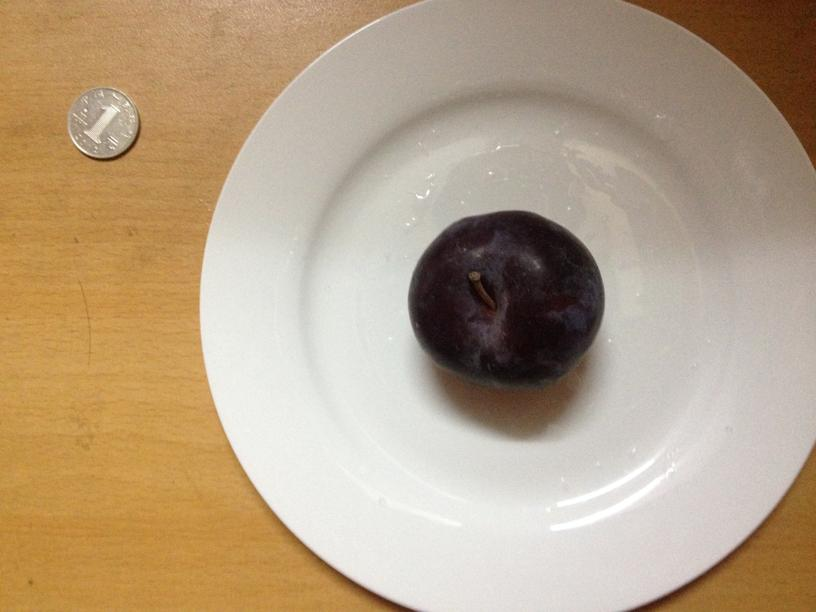coin: (62, 89, 139, 160)
plum: (411, 212, 603, 382)
